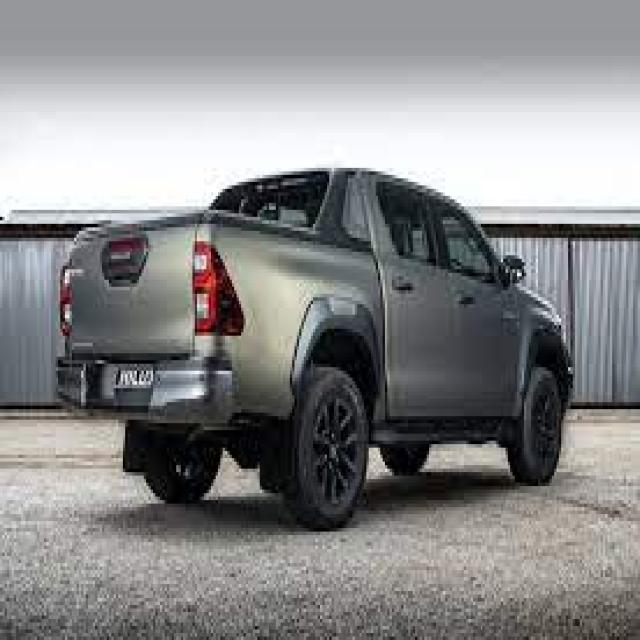Pickup Trucks: (56, 168, 575, 531)
